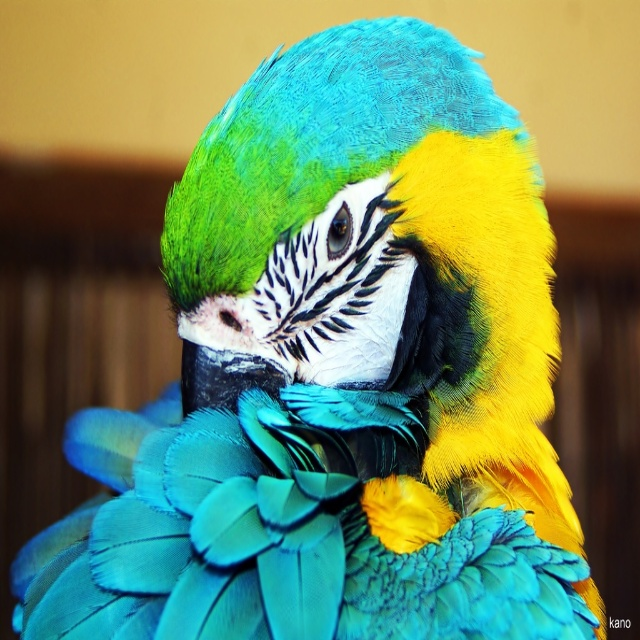Parrot: (8, 16, 606, 639)
